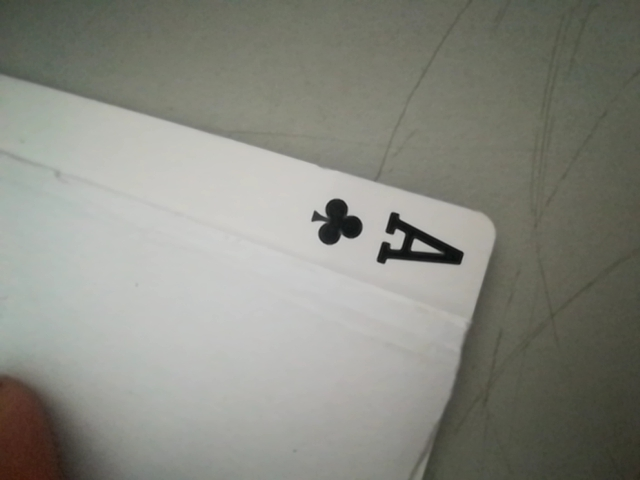mh a: (297, 191, 477, 278)
